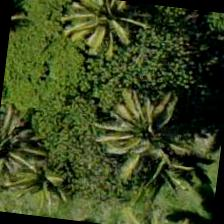Kelapa_Sawit: (85, 81, 185, 181), (50, 0, 149, 76), (0, 110, 66, 208)
